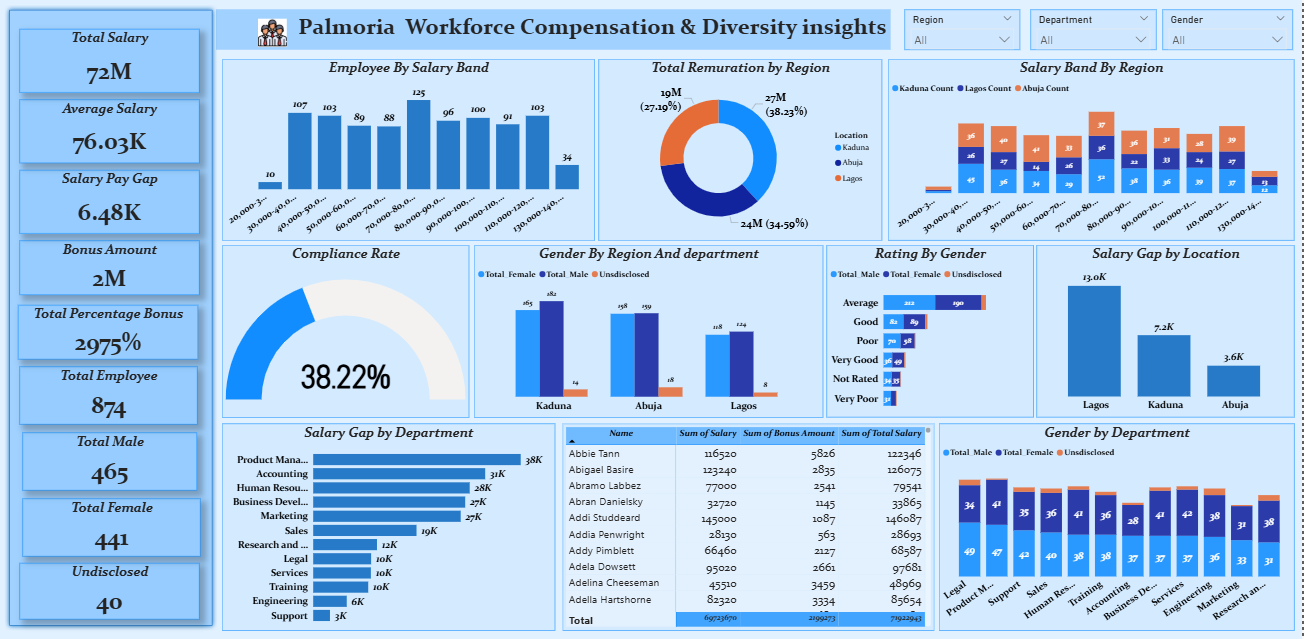

The dashboard page shown, as its layout file describes it:
{"tool":"powerbi","page":{"name":"Page 1","canvas":[2200,1100],"ordinal":0},"visuals":[{"type":"barChart","title":"Rating By Gender","fields":{"Category":["Palmoria employee data.Rating"],"Y":["Palmoria employee data.Total_Male","Palmoria employee data.Total_Female","Palmoria employee data.Unsdisclosed"]},"box":[1407.5,440,345,287.5],"z":1000},{"type":"columnChart","title":"Gender by Department","fields":{"Category":["Palmoria employee data.Department"],"Y":["Palmoria employee data.Total_Male","Palmoria employee data.Total_Female","Palmoria employee data.Unsdisclosed"]},"box":[1595,737.5,592.5,345],"z":2000},{"type":"columnChart","title":"Employee By Salary Band","fields":{"Y":["CountNonNull(Palmoria employee data.Name)"],"Category":["Palmoria employee data.Salry Band"]},"box":[400,130.3,621.2,303],"z":3000},{"type":"clusteredColumnChart","title":"Gender By Region And department","fields":{"Category":["Palmoria employee data.Location"],"Y":["Palmoria employee data.Total_Female","Palmoria employee data.Total_Male","Palmoria employee data.Unsdisclosed"]},"box":[821.2,439.4,581.8,287.9],"z":4000},{"type":"columnChart","fields":{"Category":["Palmoria employee data.Location"],"Y":["Palmoria employee data.Salary Gap"]},"box":[1757.5,440,430,287.5],"z":6000},{"type":"barChart","fields":{"Category":["Palmoria employee data.Department"],"Y":["Palmoria employee data.Salary Gap"]},"box":[400,737.5,555,345],"z":7000},{"type":"columnChart","title":"Salary Band By Region","fields":{"Category":["Palmoria employee data.Salry Band"],"Y":["Palmoria employee data.Kaduna Count","Palmoria employee data.Lagos Count","Palmoria employee data.Abuja Count"]},"box":[1510,130,677.5,302.5],"z":8000},{"type":"gauge","title":"Compliance Rate","fields":{"Y":["Palmoria employee data.compliance percentage"]},"box":[400,439.4,412.1,287.9],"z":10000},{"type":"textbox","box":[390.9,48.5,1124.2,66.7],"z":12000},{"type":"slicer","fields":{"Values":["Palmoria employee data.Location"]},"box":[1537.5,47.5,192.5,67.5],"z":14000},{"type":"image","box":[390.9,57.6,187.9,57.6],"z":15000},{"type":"pivotTable","fields":{"Rows":["Palmoria employee data.Name"],"Values":["Sum(Palmoria employee data.Salary)","Sum(Palmoria employee data.Bonus Amount)","Sum(Palmoria employee data.Total Salary)"]},"box":[967.5,737.5,620,345],"z":16000},{"type":"donutChart","title":"Total Remuration by Region","fields":{"Category":["Palmoria employee data.Location"],"Y":["Sum(Palmoria employee data.Salary)"]},"box":[1027.3,130.3,472.7,303],"z":19000},{"type":"slicer","fields":{"Values":["Palmoria employee data.Gender"]},"box":[1967.5,47.5,217.5,67.5],"z":20000},{"type":"slicer","fields":{"Values":["Palmoria employee data.Department"]},"box":[1747.5,47.5,210,67.5],"z":22000},{"type":"shape","box":[36.4,39.4,354.5,1042.4],"z":23000},{"type":"card","title":"Total Salary","fields":{"Values":["Sum(Palmoria employee data.Total Salary)"]},"box":[63.6,78.8,300,106.1],"z":24000},{"type":"card","title":"Average Salary","fields":{"Values":["Avg(Palmoria employee data.Total Salary)"]},"box":[63.6,197,300,106.1],"z":24500},{"type":"card","title":"Salary Pay Gap","fields":{"Values":["Palmoria employee data.Salary Gap"]},"box":[63.6,315.2,300,106.1],"z":25000},{"type":"card","title":"Bonus Amount","fields":{"Values":["Sum(Palmoria employee data.Bonus Amount)"]},"box":[63.6,433.3,300,90.9],"z":25500},{"type":"card","title":"Total Percentage Bonus","fields":{"Values":["Sum(Palmoria employee data.Bonus Percentage)"]},"box":[60.6,539.4,300,90.9],"z":26000},{"type":"card","title":"Total Employee","fields":{"Values":["Palmoria employee data.Total Employee"]},"box":[63.6,642.4,297,97],"z":26500},{"type":"card","title":"Total Male","fields":{"Values":["Palmoria employee data.Total_Male"]},"box":[66.7,751.5,290.9,97],"z":27000},{"type":"card","title":"Total Female","fields":{"Values":["Palmoria employee data.Total_Female"]},"box":[66.7,863.6,297,97],"z":27500},{"type":"card","title":"Undisclosed","fields":{"Values":["Palmoria employee data.Unsdisclosed"]},"box":[63.6,969.7,300,93.9],"z":28000}]}

Visuals, with their boxes in screenshot pixels (x1, y1, x2, y2), scaled from the page's 2200x1100 canvas onto the 1304x639 screenshot:
"Rating By Gender" barChart: [834, 256, 1039, 423]
"Gender by Department" columnChart: [945, 428, 1297, 629]
"Employee By Salary Band" columnChart: [237, 76, 605, 252]
"Gender By Region And department" clusteredColumnChart: [487, 255, 832, 422]
columnChart - Palmoria employee data.Location x Palmoria employee data.Salary Gap: [1042, 256, 1297, 423]
barChart - Palmoria employee data.Department x Palmoria employee data.Salary Gap: [237, 428, 566, 629]
"Salary Band By Region" columnChart: [895, 76, 1297, 251]
"Compliance Rate" gauge: [237, 255, 481, 422]
textbox: [232, 28, 898, 67]
slicer - Palmoria employee data.Location: [911, 28, 1025, 67]
image: [232, 33, 343, 67]
pivotTable - Palmoria employee data.Name x Sum(Palmoria employee data.Salary): [573, 428, 941, 629]
"Total Remuration by Region" donutChart: [609, 76, 889, 252]
slicer - Palmoria employee data.Gender: [1166, 28, 1295, 67]
slicer - Palmoria employee data.Department: [1036, 28, 1160, 67]
shape: [22, 23, 232, 628]
"Total Salary" card: [38, 46, 216, 107]
"Average Salary" card: [38, 114, 216, 176]
"Salary Pay Gap" card: [38, 183, 216, 245]
"Bonus Amount" card: [38, 252, 216, 305]
"Total Percentage Bonus" card: [36, 313, 214, 366]
"Total Employee" card: [38, 373, 214, 430]
"Total Male" card: [40, 437, 212, 493]
"Total Female" card: [40, 502, 216, 558]
"Undisclosed" card: [38, 563, 216, 618]
